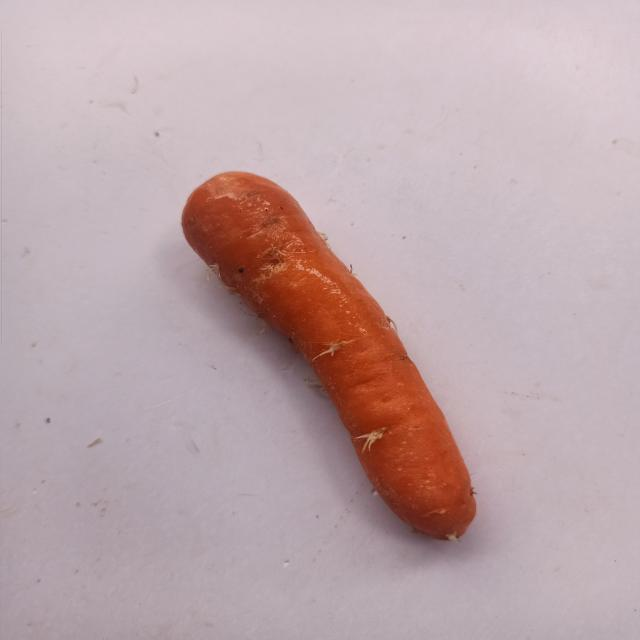Carrot: (128, 146, 580, 558)
